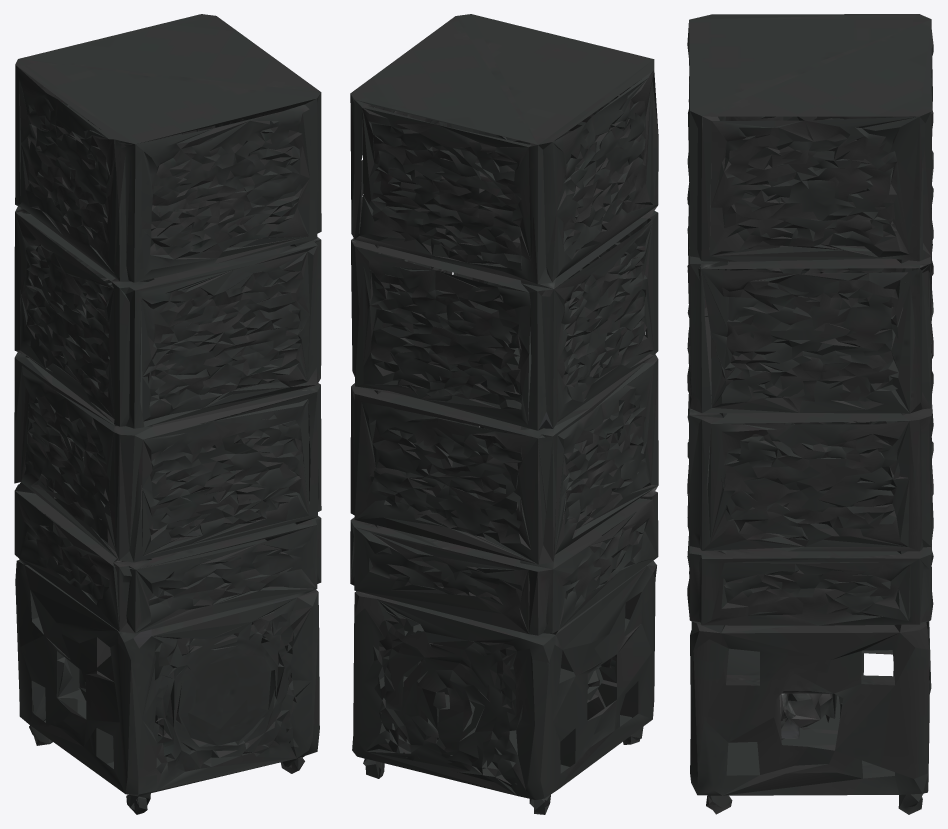
The model's file is djSpeaker.glb.
3 renders of one model, left to right at view 1: azimuth 30°, elevation 25°; view 2: azimuth 150°, elevation 25°; view 3: azimuth 270°, elevation 25°, orthographic. The views are drawn at different scales.
Size of the model in its own units: 0.6002 by 1.9 by 0.6002.
Materials: 1 (1 with a texture image).
